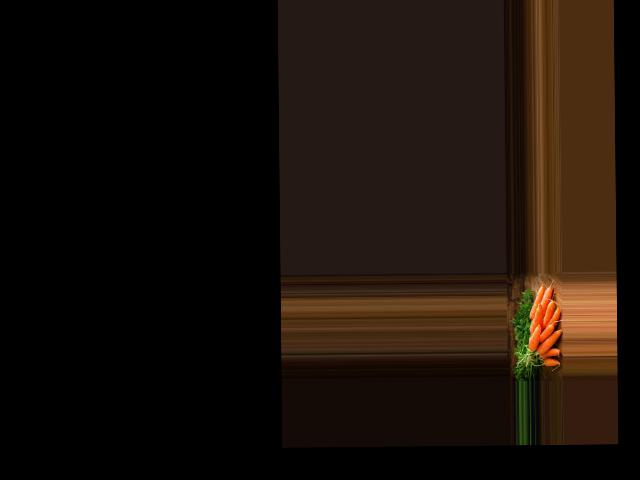carrot: (541, 358, 559, 368)
